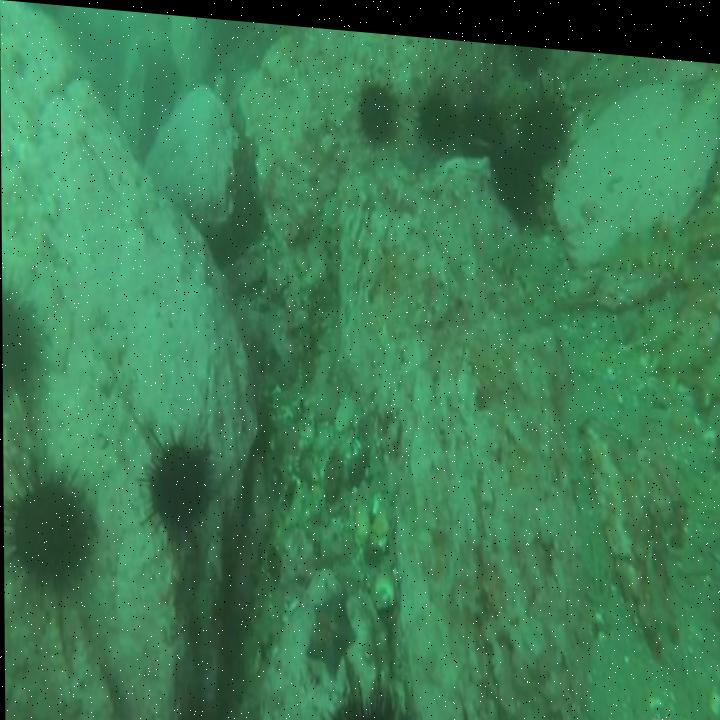echinus: (4, 459, 98, 599), (134, 416, 219, 556), (320, 662, 412, 720), (3, 279, 41, 413), (348, 63, 402, 156), (490, 123, 543, 214), (516, 72, 571, 159), (455, 80, 509, 155), (415, 75, 460, 153)
holothurian: (636, 268, 720, 395), (594, 198, 701, 271), (487, 226, 556, 309)
starfish: (303, 572, 359, 679)
